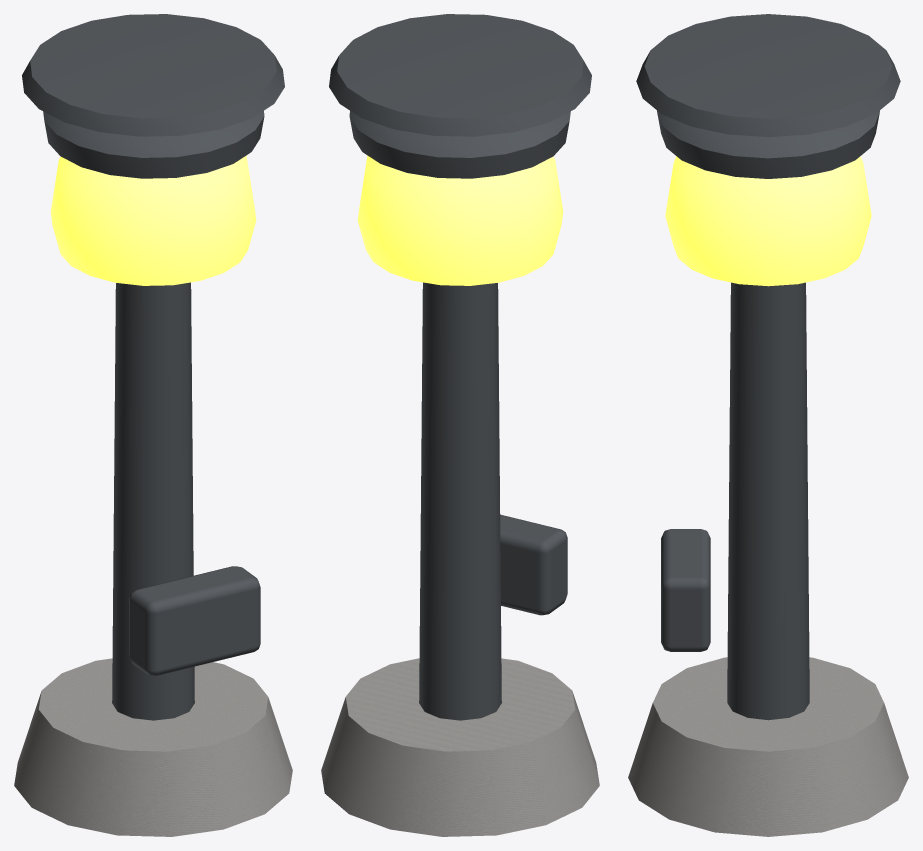
The model's file is battle-royale-town-and-airfield-runway-light-stalk-7383474e__28253.glb.
3 renders of one model, left to right at view 1: azimuth 30°, elevation 25°; view 2: azimuth 150°, elevation 25°; view 3: azimuth 270°, elevation 25°, orthographic.
Visible parts, largest first — view 1: runway-light-stalk; view 2: runway-light-stalk; view 3: runway-light-stalk.
Part boxes in pixels (x1,y1,x2,y2): runway-light-stalk: (14,14,292,836); runway-light-stalk: (321,14,599,836); runway-light-stalk: (628,14,908,836).
Size of the model in its own units: 0.34 by 0.955 by 0.34.
Materials: 4 (1 with a texture image).
